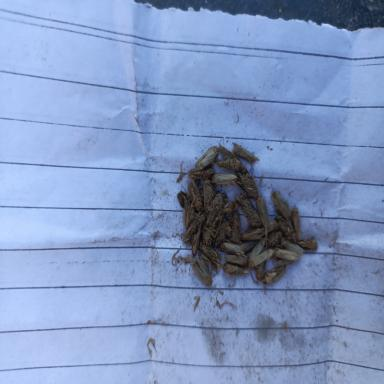pbw: (234, 164, 262, 200), (214, 143, 246, 173), (269, 184, 292, 222), (235, 193, 260, 227), (181, 179, 204, 212), (247, 238, 273, 267), (203, 212, 224, 245), (214, 212, 233, 247), (183, 213, 205, 243), (194, 146, 219, 171), (208, 191, 224, 226), (232, 142, 260, 162), (188, 164, 216, 183), (192, 258, 212, 284), (200, 180, 214, 216), (261, 266, 288, 284), (183, 194, 196, 230), (256, 196, 270, 228), (281, 238, 305, 256), (290, 205, 302, 240), (275, 215, 295, 236), (229, 209, 241, 244), (223, 263, 249, 279), (200, 224, 216, 246), (241, 227, 266, 241), (274, 248, 300, 261), (192, 223, 202, 256), (266, 230, 284, 248), (211, 172, 237, 184), (219, 240, 245, 252), (224, 254, 247, 267), (297, 238, 318, 252), (204, 244, 222, 260), (177, 184, 188, 208), (262, 220, 277, 237), (255, 259, 267, 280), (240, 240, 258, 253), (221, 201, 235, 214), (275, 258, 294, 266)
